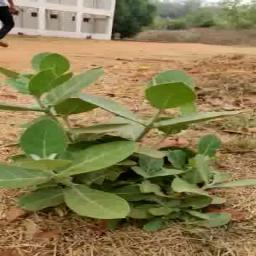CALOTROPIS: (6, 54, 247, 230)
